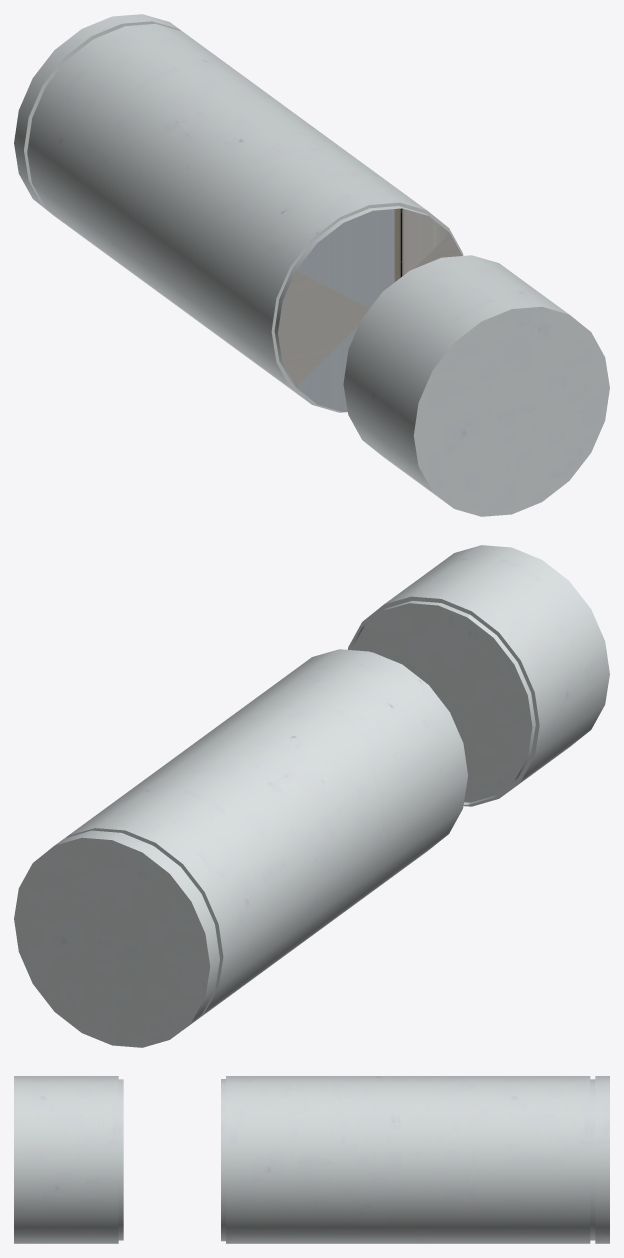
Rendered from SM_光谱仪_调整旋转_01.FBX.
3 renders of one model, top to bottom at view 1: azimuth 30°, elevation 25°; view 2: azimuth 150°, elevation 25°; view 3: azimuth 270°, elevation 25°, orthographic. The views are drawn at different scales.
Visible parts, largest first — view 1: SM_光谱仪_调整旋转_01; view 2: SM_光谱仪_调整旋转_01; view 3: SM_光谱仪_调整旋转_01.
Boxes of the visible parts, x1,y1,x2,y2 form: SM_光谱仪_调整旋转_01: (14, 14, 609, 516); SM_光谱仪_调整旋转_01: (14, 545, 609, 1047); SM_光谱仪_调整旋转_01: (14, 1076, 609, 1243).
Size of the model in its own units: 0.0657 by 0.0657 by 0.2319.
